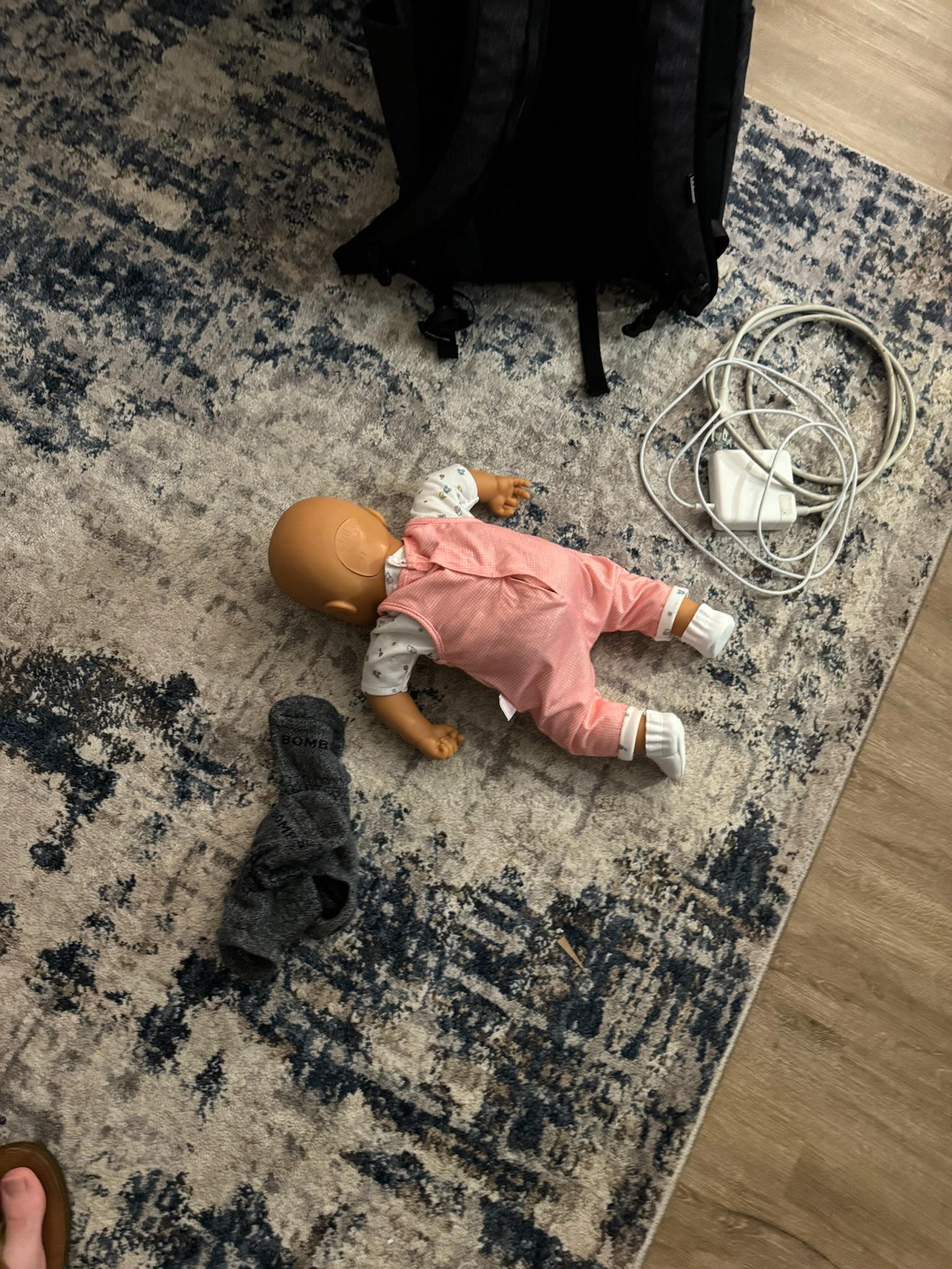baby: (256, 456, 752, 803)
